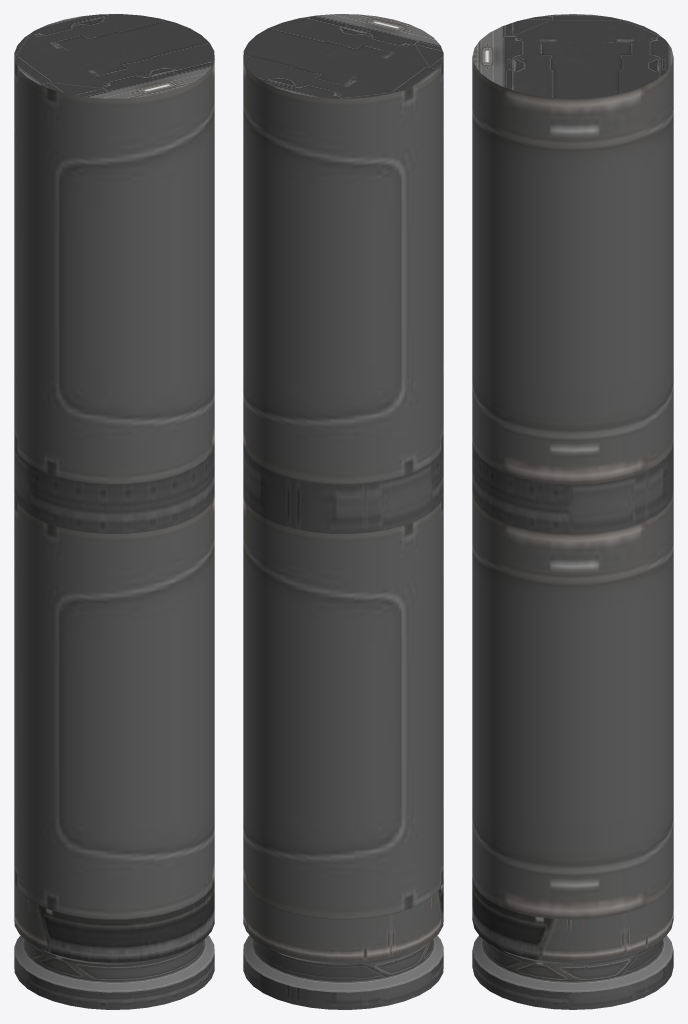
File: sf_column_round.glb
3 renders of one model, left to right at view 1: azimuth 30°, elevation 25°; view 2: azimuth 150°, elevation 25°; view 3: azimuth 270°, elevation 25°, orthographic.
Visible parts, largest first — view 1: Column_Round; view 2: Column_Round; view 3: Column_Round.
Boxes of the visible parts, x1,y1,x2,y2 form: Column_Round: (14,14,214,1009); Column_Round: (243,14,443,1009); Column_Round: (472,14,673,1009).
Bounding box in the file's own units: 1 × 5 × 1.
2 materials, 2 textured.
